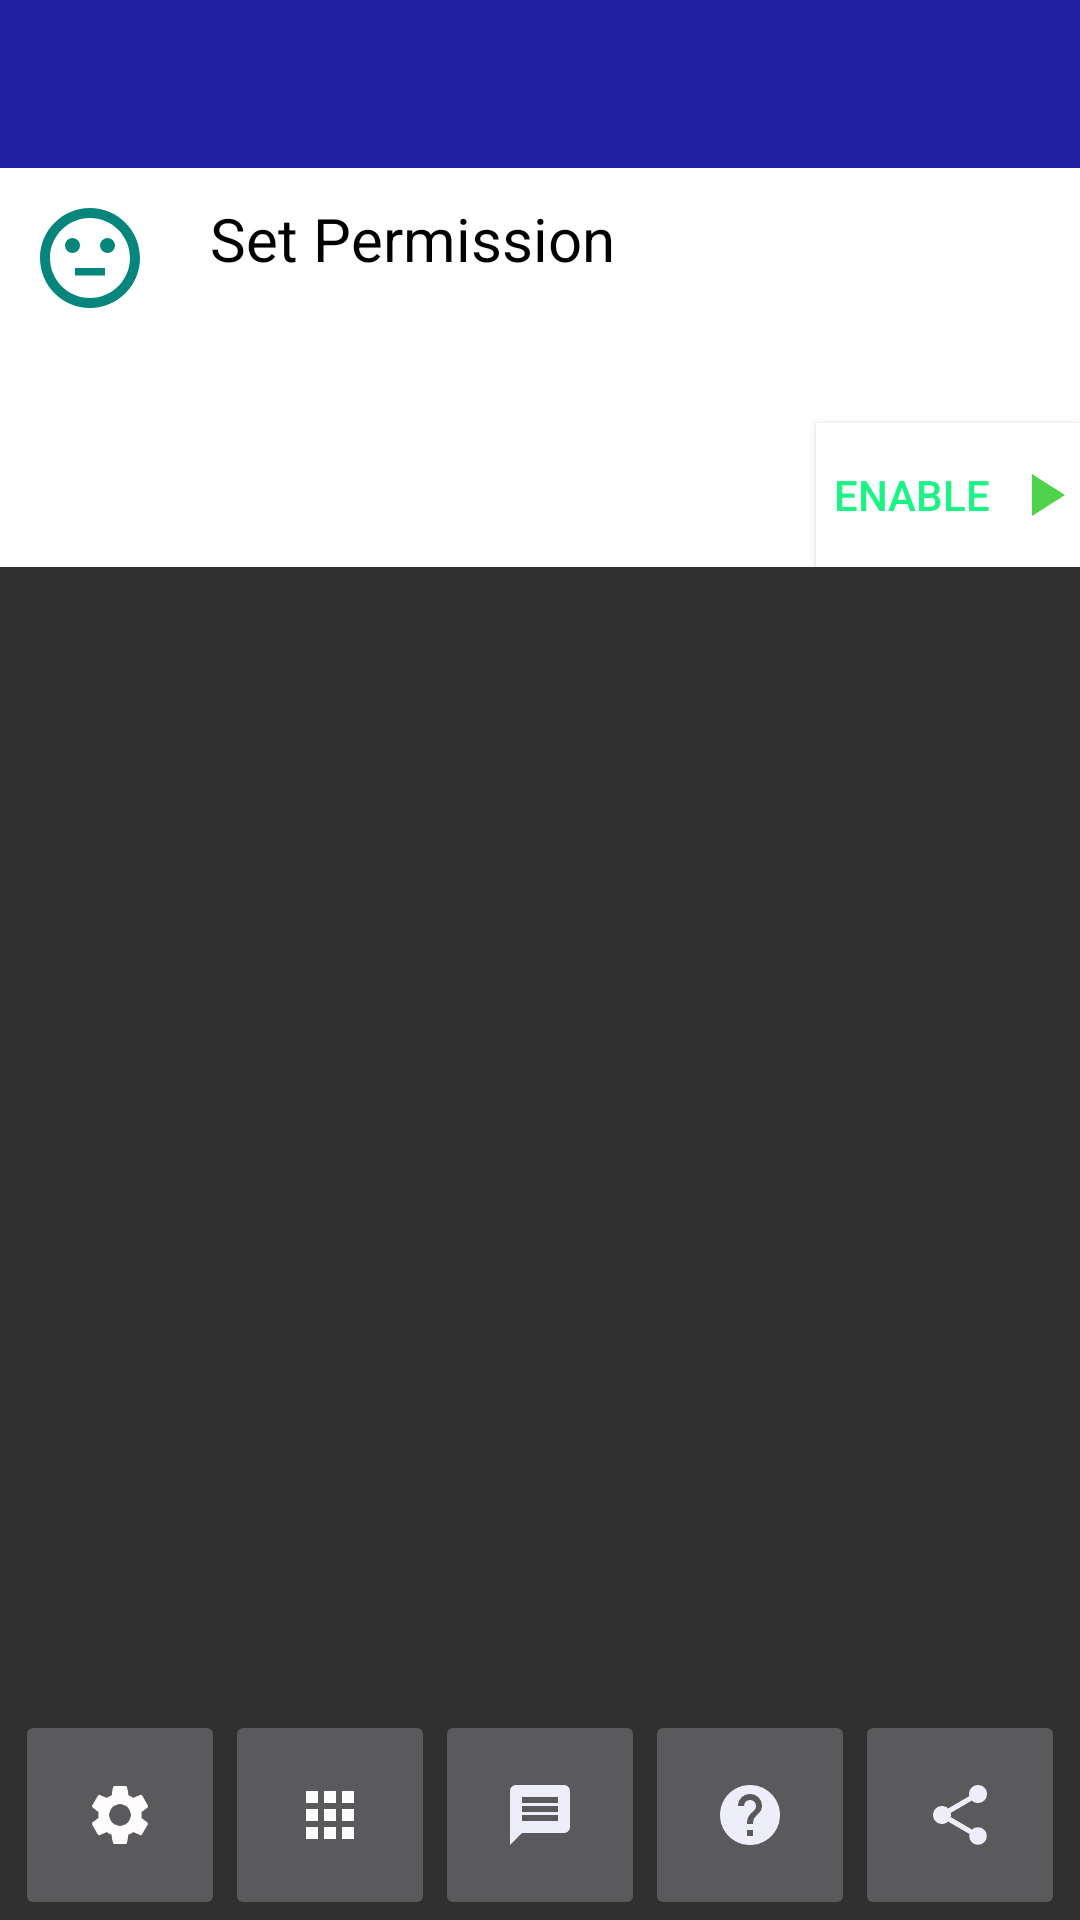

Point at icon controls on the screen. Image size 1080×1920, points as (x,y).
apps: (330,1815)
help: (750,1815)
message: (540,1815)
sentiment neutral: (90,258)
settings: (120,1815)
share: (960,1815)
